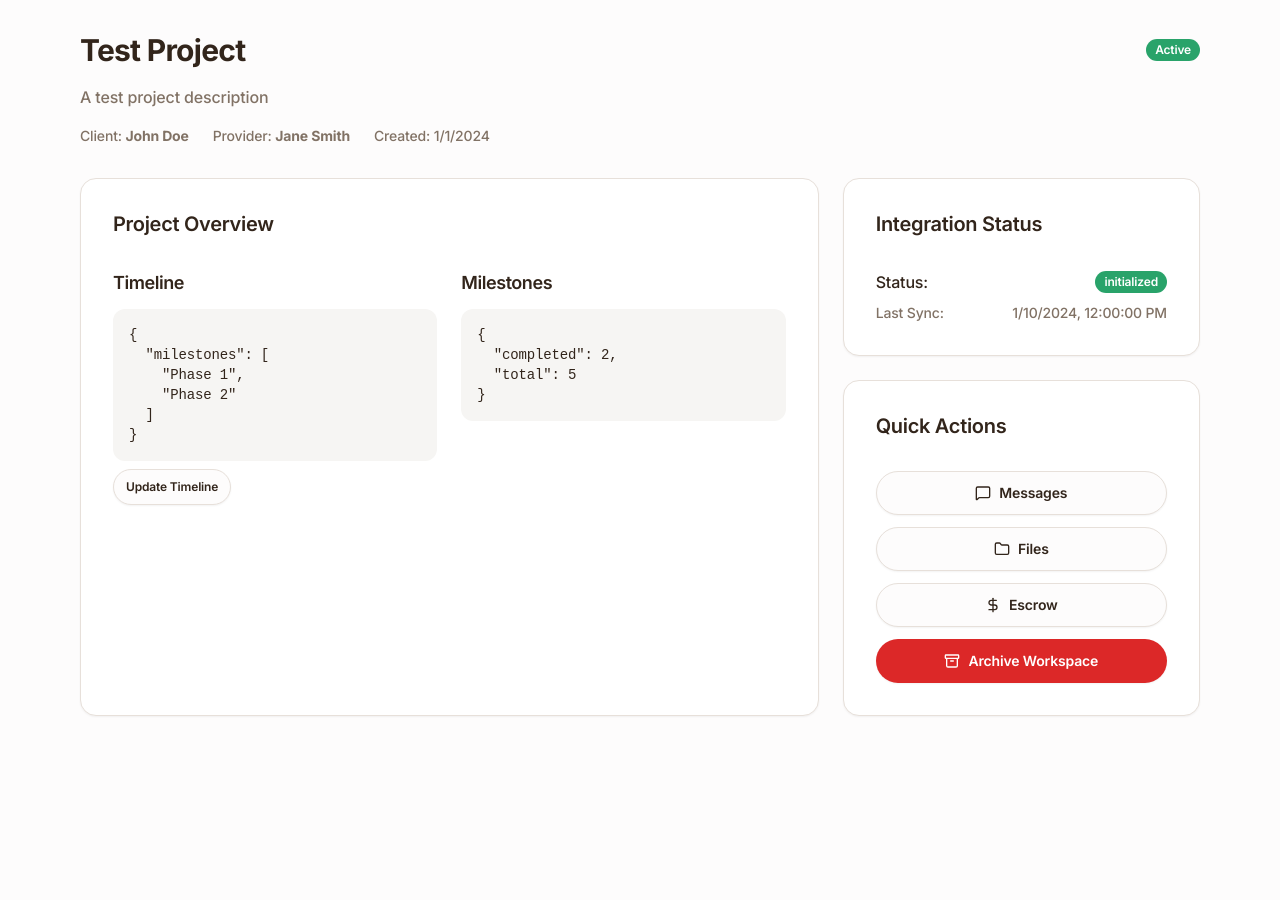
Test: WorkspaceDashboard › Archive Workspace › displays error when archive fails
Step 1. Click the button "Archive Workspace" → x=1021, y=661, box [876, 639, 1167, 683]
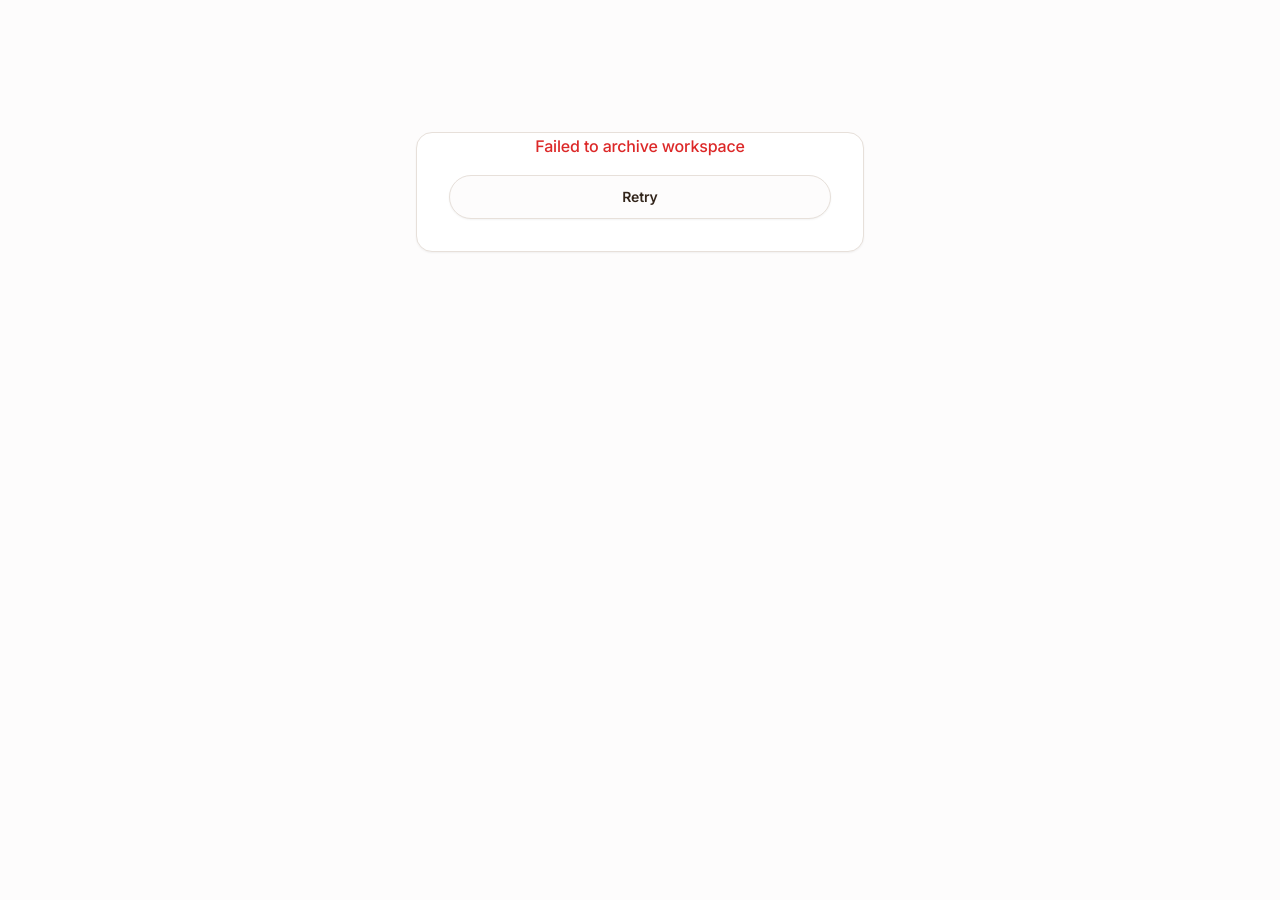
Check: the text "Failed to archive workspace" is shown, box [535, 136, 745, 156]
